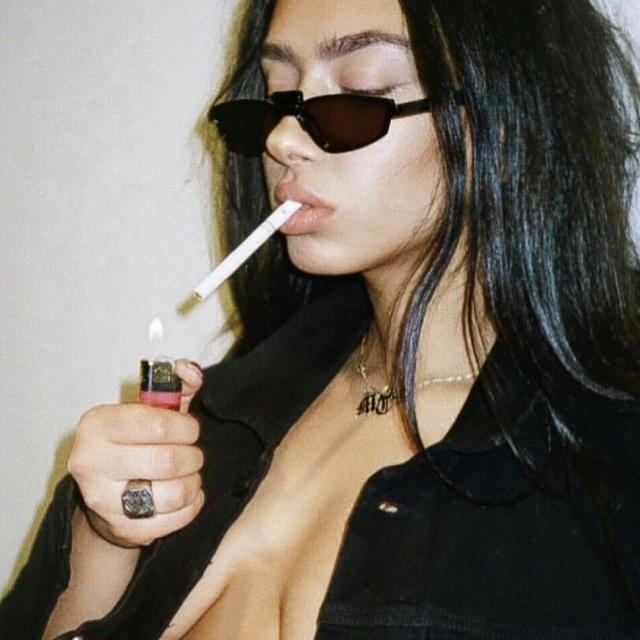smoke: (190, 194, 303, 306)
